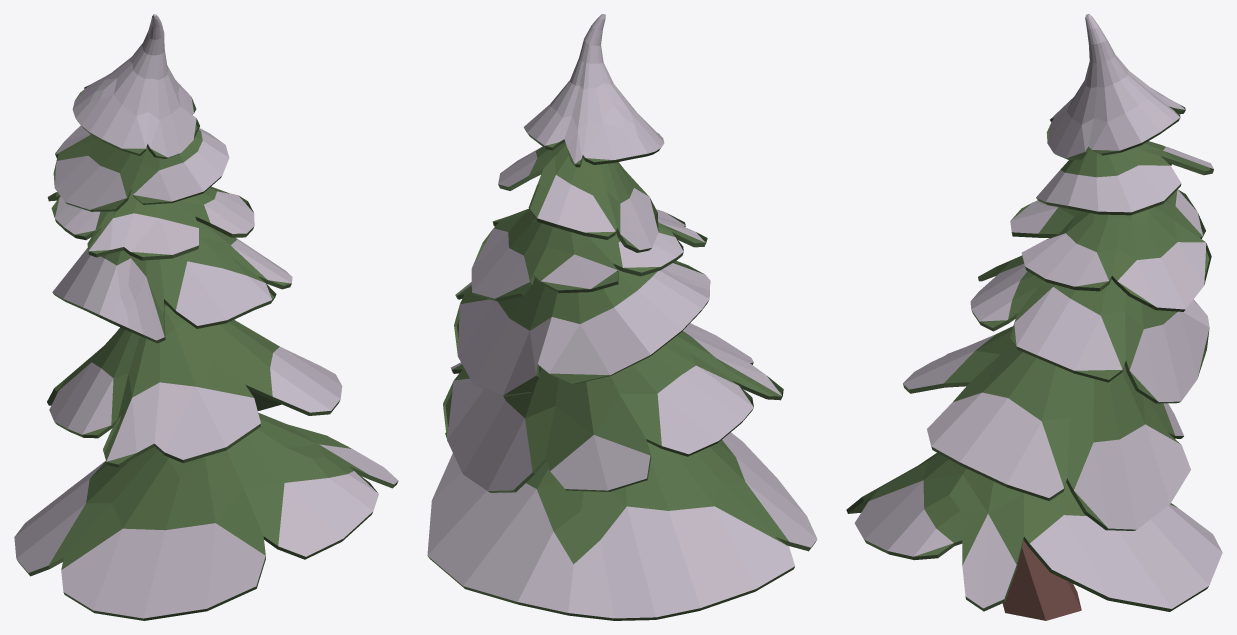
File: pinetree_snow_3.glb
3 renders of one model, left to right at view 1: azimuth 30°, elevation 25°; view 2: azimuth 150°, elevation 25°; view 3: azimuth 270°, elevation 25°, orthographic. The views are drawn at different scales.
Visible parts, largest first — view 1: PineTree_Snow_3; view 2: PineTree_Snow_3; view 3: PineTree_Snow_3.
Boxes of the visible parts, x1,y1,x2,y2 form: PineTree_Snow_3: (14,14,398,620); PineTree_Snow_3: (427,14,817,620); PineTree_Snow_3: (846,14,1222,620).
Size of the model in its own units: 5.19 by 7.93 by 4.69.
